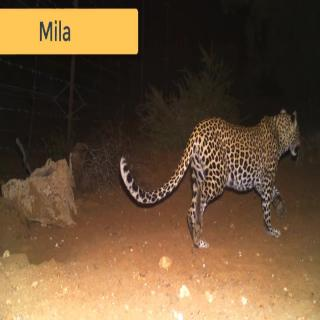Leopard: (119, 105, 301, 251)
